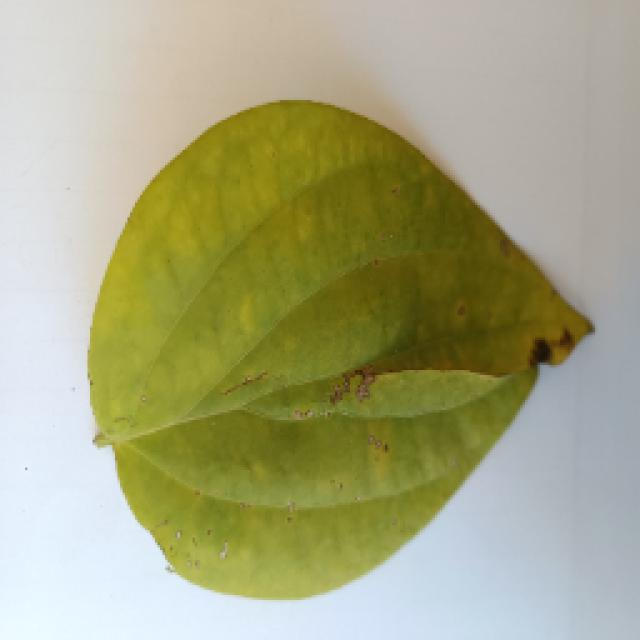slow-decline: (22, 105, 602, 620)
